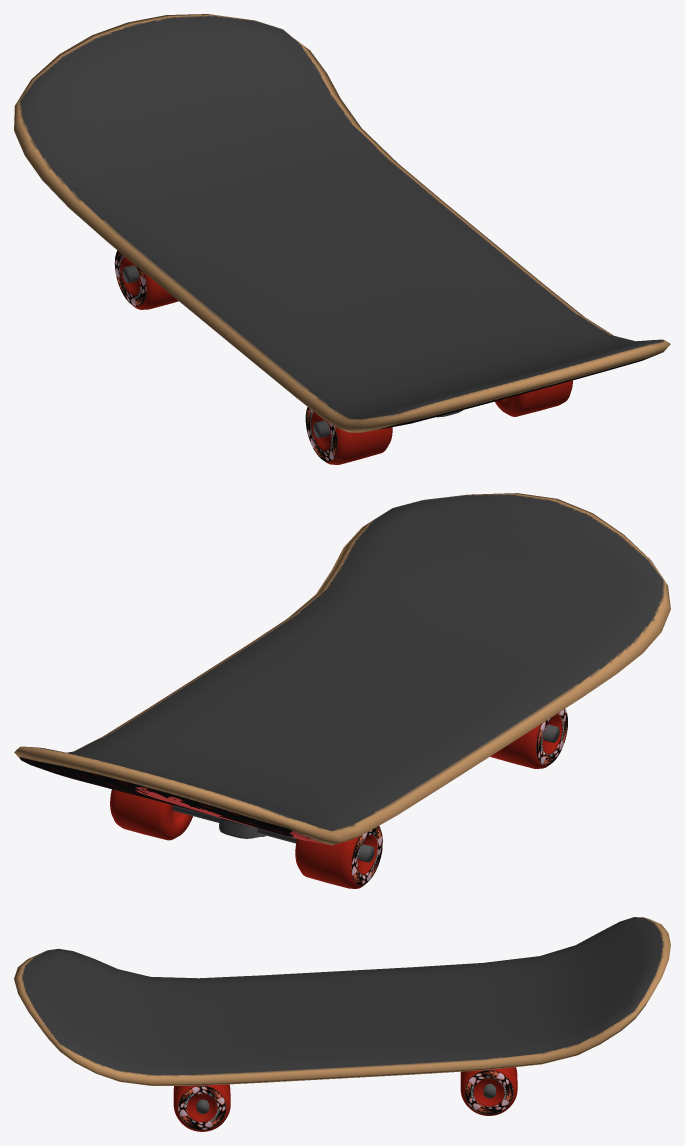
Rendered from Skateboard.fbx.
3 renders of one model, top to bottom at view 1: azimuth 30°, elevation 25°; view 2: azimuth 150°, elevation 25°; view 3: azimuth 270°, elevation 25°, orthographic. The views are drawn at different scales.
Parts seen in each view (by area): view 1: Skate board; view 2: Skate board; view 3: Skate board.
Boxes of the visible parts, x1,y1,x2,y2 form: Skate board: (14, 14, 670, 464); Skate board: (14, 493, 670, 888); Skate board: (14, 917, 670, 1131).
Bounding box in the file's own units: 126 × 73.56 × 297.
Materials: 6 (6 with a texture image).
